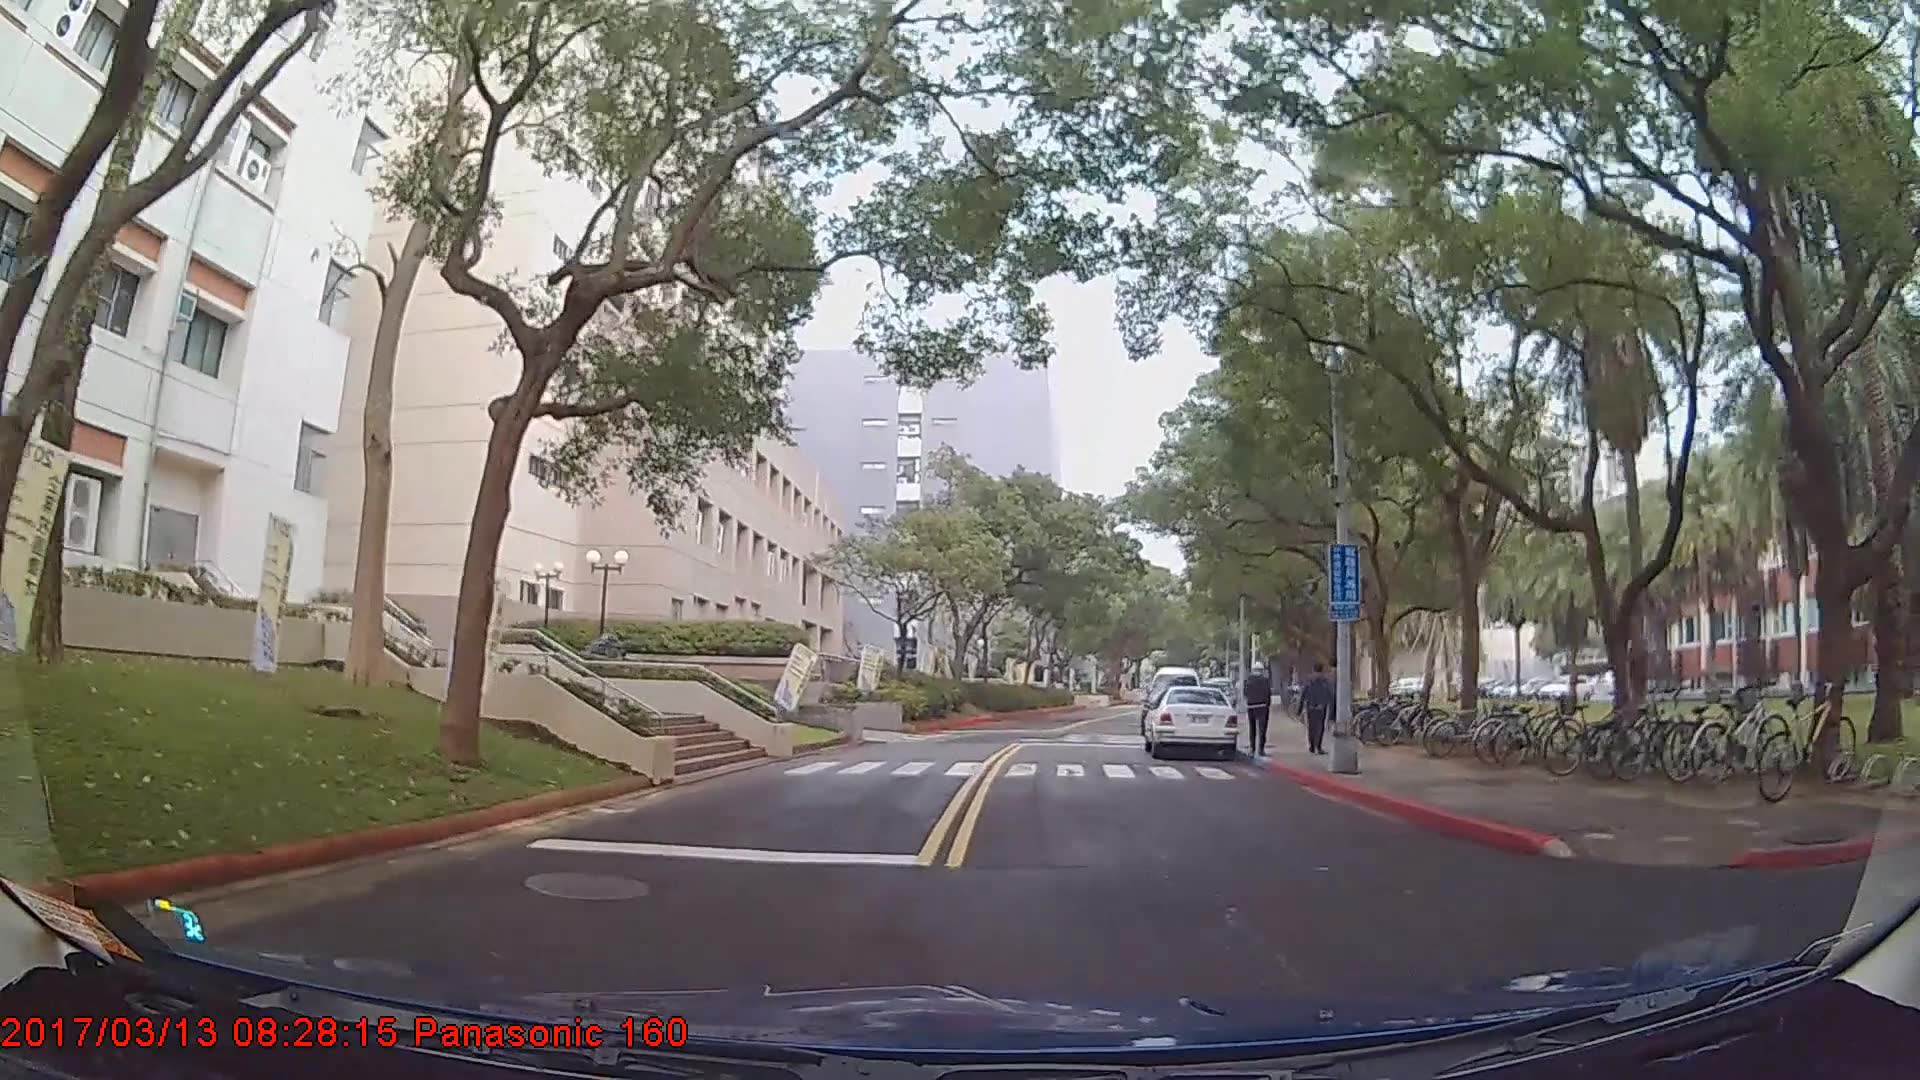pedestrian: (1301, 662, 1340, 756), (1243, 663, 1274, 759)
vehicle: (1139, 684, 1241, 763)
